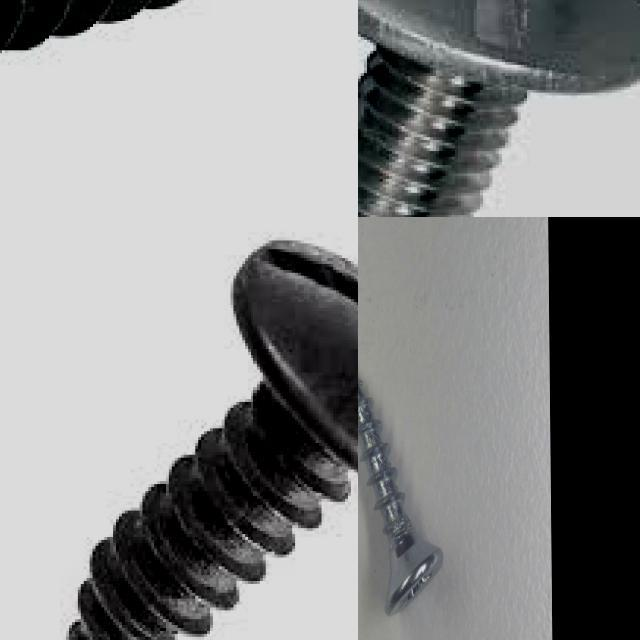Screw: (66, 243, 358, 640), (358, 0, 640, 217), (358, 378, 443, 615)
